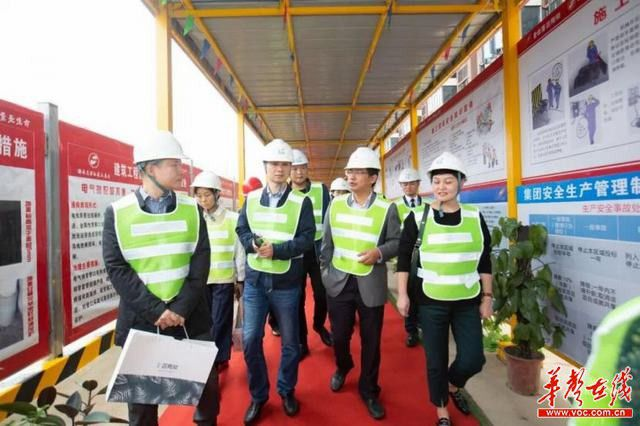person: (99, 128, 220, 426), (397, 149, 494, 426), (233, 138, 315, 425), (319, 146, 402, 422), (190, 168, 246, 371), (289, 149, 330, 348)
reflective_vest: (109, 190, 200, 303), (409, 202, 484, 301), (329, 194, 395, 277), (246, 186, 308, 274), (203, 208, 242, 285)
safety_helmet: (131, 128, 188, 191), (425, 149, 469, 204), (343, 145, 383, 194), (260, 138, 293, 184), (189, 168, 223, 211), (397, 165, 422, 198), (289, 148, 310, 185), (329, 176, 348, 198)
